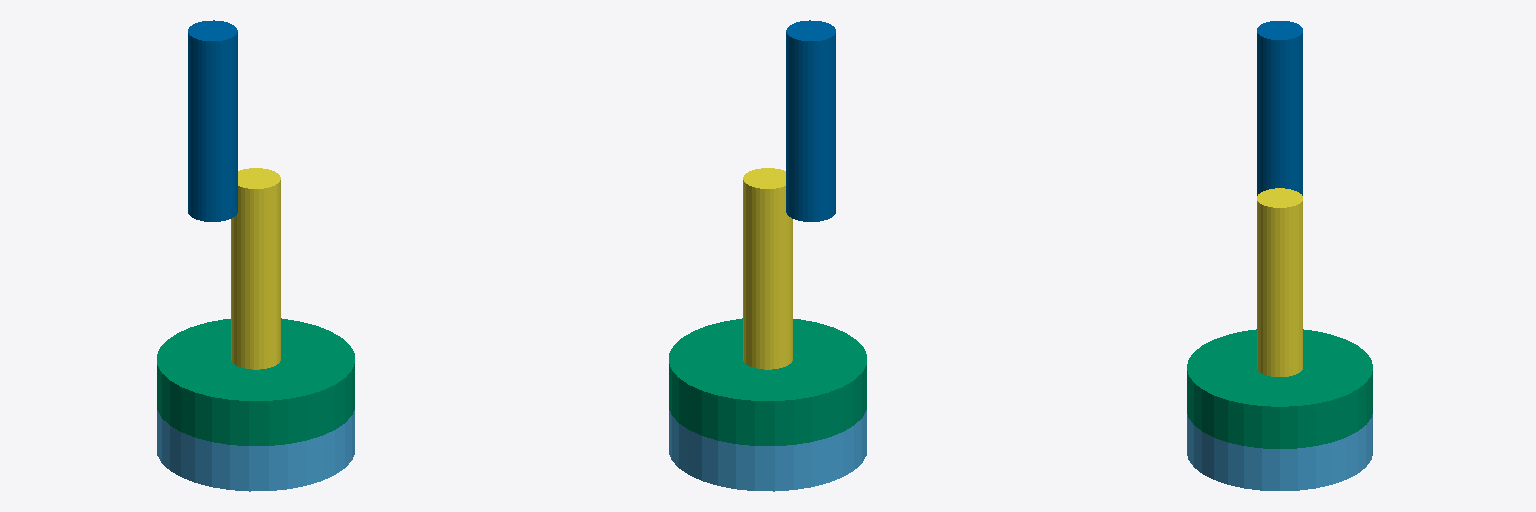
URDF robot description (exabot):
<?xml version="1.0" ?>
<!-- =================================================================================== -->
<!-- |    This document was autogenerated by xacro from exabot.xacro                   | -->
<!-- |    EDITING THIS FILE BY HAND IS NOT RECOMMENDED                                 | -->
<!-- =================================================================================== -->
<robot name="exabot" xmlns:xacro="http://ros.org/wiki/xacro">
  <!-- Defines an example roboter 'exabot'. Its purpose is to show how
       to work with xacro macros and general URDF. All files used in
       this example are written by [author] within the scope of his
       masterthesis. -->
  <!-- end: xacro cylinder inertial -->
  <!-- Defines a cylinder link with the name "'name'_link", a radius
       'radius', a length 'height' and a mass 'mass'. It also defines
       a appropriate 'type' joint with a parent link "'parent'_link" and an
       origin '*origin_joint'. Please remember to set an origin element when
       calling this macro. -->
  <!-- end: xacro cylinder inertial -->
  <!-- end: including -->
  <!-- end: cylinder link joint -->
  <!-- end: including -->
  <!-- end: parameter definition -->
  <!-- start: world link -->
  <link name="world"/>
  <!-- end: world link -->
  <link name="stand_link">
    <visual>
      <origin rpy="0 0 0" xyz="0 0 0"/>
      <geometry>
        <cylinder length="0.1" radius="0.2"/>
      </geometry>
    </visual>
    <collision>
      <origin rpy="0 0 0" xyz="0 0 0"/>
      <geometry>
        <cylinder length="0.1" radius="0.2"/>
      </geometry>
    </collision>
    <inertial>
      <mass value="100.0"/>
      <origin rpy="0 0 0" xyz="0 0 0"/>
      <inertia ixx="1.08333333333" ixy="0.0" ixz="0.0" iyy="1.08333333333" iyz="0.0" izz="2.0"/>
    </inertial>
  </link>
  <joint name="stand_joint" type="fixed">
    <parent link="world"/>
    <child link="stand_link"/>
    <origin rpy="0 0 0" xyz="0 0 0.05"/>
  </joint>
  <!-- end: stand link/joint -->
  <link name="base_link">
    <visual>
      <origin rpy="0 0 0" xyz="0 0 0"/>
      <geometry>
        <cylinder length="0.1" radius="0.2"/>
      </geometry>
    </visual>
    <collision>
      <origin rpy="0 0 0" xyz="0 0 0"/>
      <geometry>
        <cylinder length="0.1" radius="0.2"/>
      </geometry>
    </collision>
    <inertial>
      <mass value="3.0"/>
      <origin rpy="0 0 0" xyz="0 0 0"/>
      <inertia ixx="0.0325" ixy="0.0" ixz="0.0" iyy="0.0325" iyz="0.0" izz="0.06"/>
    </inertial>
  </link>
  <joint name="base_joint" type="fixed">
    <parent link="stand_link"/>
    <child link="base_link"/>
    <origin rpy="0 0 0" xyz="0 0 0.1"/>
  </joint>
  <!-- end: base link/joint -->
  <link name="shoulder_link">
    <visual>
      <origin rpy="0 0 0" xyz="0 0 0"/>
      <geometry>
        <cylinder length="0.4" radius="0.05"/>
      </geometry>
    </visual>
    <collision>
      <origin rpy="0 0 0" xyz="0 0 0"/>
      <geometry>
        <cylinder length="0.4" radius="0.05"/>
      </geometry>
    </collision>
    <inertial>
      <mass value="1.0"/>
      <origin rpy="0 0 0" xyz="0 0 0"/>
      <inertia ixx="0.0139583333333" ixy="0.0" ixz="0.0" iyy="0.0139583333333" iyz="0.0" izz="0.00125"/>
    </inertial>
  </link>
  <joint name="shoulder_joint" type="revolute">
    <parent link="base_link"/>
    <child link="shoulder_link"/>
    <origin rpy="0 0 0" xyz="0 0 0.25"/>
    <axis xyz="0 0 1"/>
    <limit effort="30" lower="-3.14159265359" upper="3.14159265359" velocity="1.0"/>
  </joint>
  <!-- end: shoulder link/joint -->
  <link name="upper_arm_link">
    <visual>
      <origin rpy="0 0 0" xyz="0 0 0.2"/>
      <geometry>
        <cylinder length="0.4" radius="0.05"/>
      </geometry>
    </visual>
    <collision>
      <origin rpy="0 0 0" xyz="0 0 0.2"/>
      <geometry>
        <cylinder length="0.4" radius="0.05"/>
      </geometry>
    </collision>
    <inertial>
      <mass value="1.0"/>
      <origin rpy="0 0 0" xyz="0 0 0"/>
      <inertia ixx="0.0139583333333" ixy="0.0" ixz="0.0" iyy="0.0139583333333" iyz="0.0" izz="0.00125"/>
    </inertial>
  </link>
  <joint name="upper_arm_joint" type="revolute">
    <parent link="shoulder_link"/>
    <child link="upper_arm_link"/>
    <origin rpy="0 0 0" xyz="-0.1 0 0.15"/>
    <axis xyz="1 0 0"/>
    <limit effort="30" lower="-1.57079632679" upper="1.57079632679" velocity="1.0"/>
  </joint>
  <!-- end: upper arm link/joint -->
</robot>

--- Render facts (derived) ---
The picture shows the robot from 3 angles, left to right: view 1: azimuth 30°, elevation 25°; view 2: azimuth 150°, elevation 25°; view 3: azimuth 270°, elevation 25°; orthographic projection.
Model exabot with 5 links and 4 joints (2 revolute, 2 fixed), rooted at world, posed all joints at 0.
Links seen in each view (by area): view 1: base_link, upper_arm_link, shoulder_link, stand_link; view 2: base_link, upper_arm_link, shoulder_link, stand_link; view 3: base_link, shoulder_link, stand_link, upper_arm_link.
Boxes of the visible links, box(x1,y1,x2,y2) form: base_link: box(157, 318, 354, 445); upper_arm_link: box(188, 20, 237, 221); shoulder_link: box(231, 168, 280, 369); stand_link: box(157, 410, 354, 491); base_link: box(669, 318, 866, 445); upper_arm_link: box(786, 20, 835, 221); shoulder_link: box(743, 168, 792, 369); stand_link: box(669, 410, 866, 491); base_link: box(1187, 329, 1372, 448); shoulder_link: box(1257, 188, 1302, 376); stand_link: box(1187, 414, 1372, 490); upper_arm_link: box(1257, 21, 1302, 195).
Bounding box of the posed robot: 0.4 × 0.4 × 0.95 m (x, y, z).
Geometry: primitives only (box / cylinder / sphere), no mesh files.